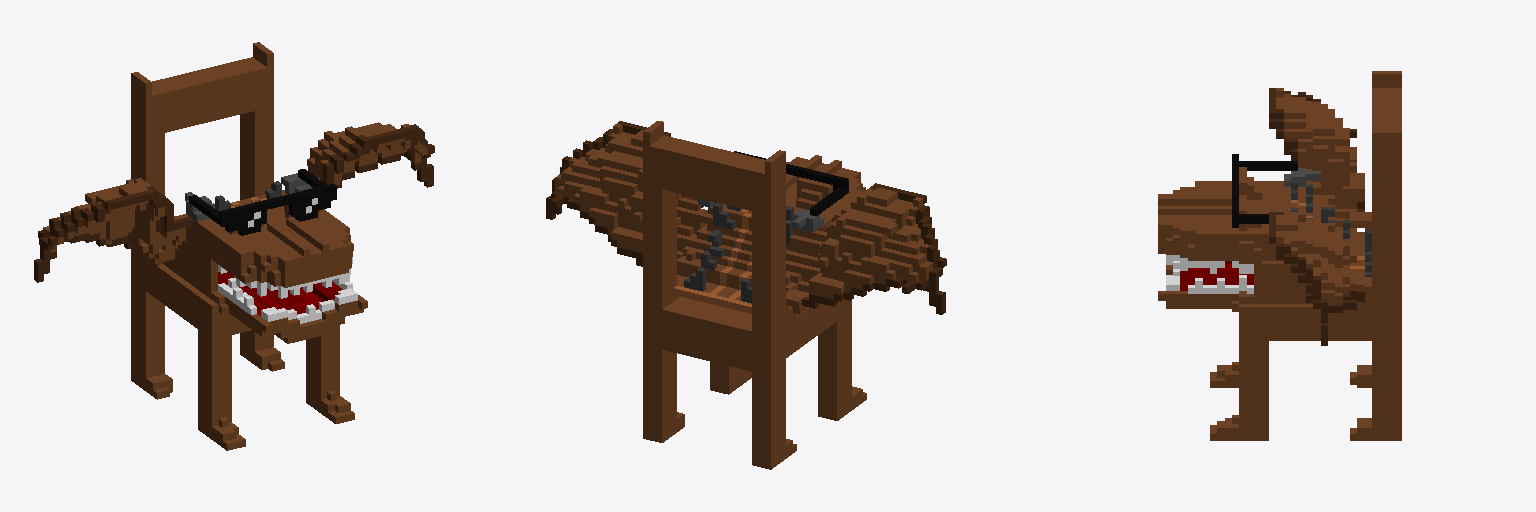
3 views of the same model, side by side, from view 1: azimuth 30°, elevation 25°; view 2: azimuth 150°, elevation 25°; view 3: azimuth 270°, elevation 25° (orthographic).
Visible parts, largest first — view 1: object 1; view 2: object 1; view 3: object 1.
Boxes of the visible parts, x1,y1,x2,y2 form: object 1: [34, 42, 434, 450]; object 1: [546, 121, 946, 469]; object 1: [1158, 71, 1401, 440].
Bounding box in the file's own units: 6.2 × 4.6 × 3.3.
Materials: 1 (1 with a texture image).